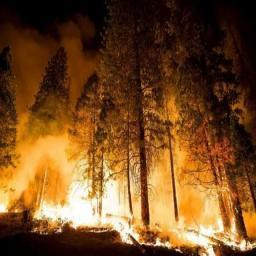Large fire: (11, 76, 256, 243)
Low smoke: (0, 0, 256, 151)
